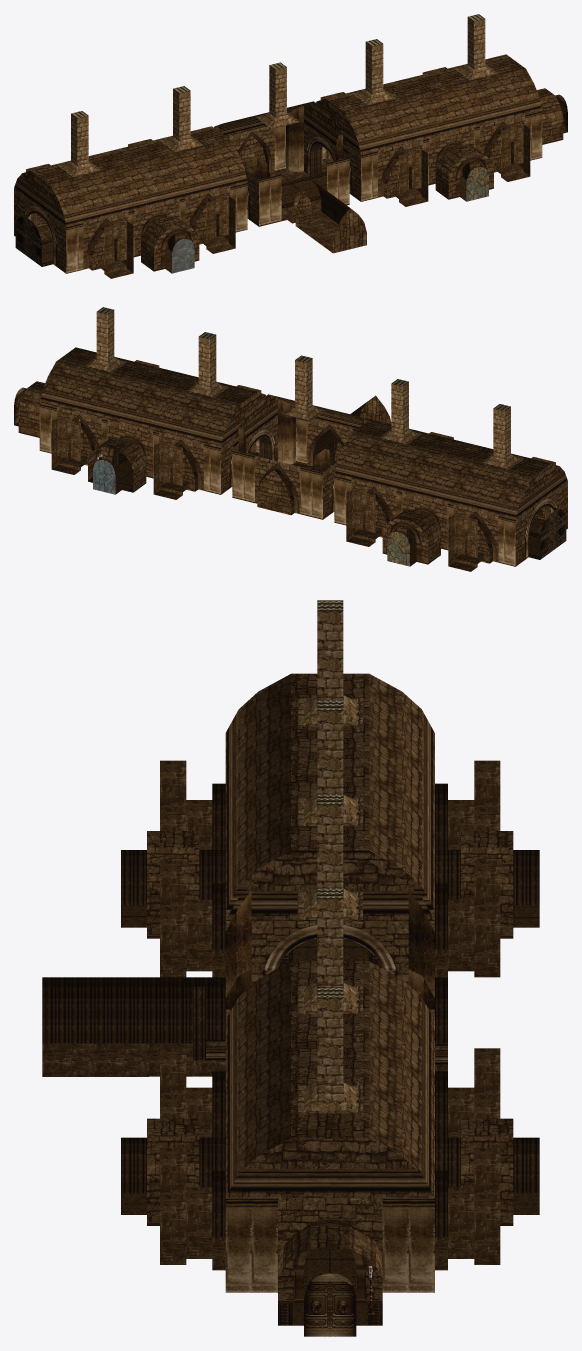
The model's file is dungeonSpace.fbx.
The picture shows the model from 3 angles, top to bottom: view 1: azimuth 30°, elevation 25°; view 2: azimuth 150°, elevation 25°; view 3: azimuth 270°, elevation 25°; orthographic projection. The views are drawn at different scales.
Parts seen in each view (by area): view 1: Sepia_Hallway:Mesh; view 2: Sepia_Hallway:Mesh; view 3: Sepia_Hallway:Mesh.
Part boxes in pixels (bbox=[...]): Sepia_Hallway:Mesh: bbox=[14, 14, 567, 278]; Sepia_Hallway:Mesh: bbox=[14, 307, 567, 571]; Sepia_Hallway:Mesh: bbox=[42, 600, 539, 1336].
Bounding box in the file's own units: 3008 × 704 × 1216.
19 materials, 19 textured.
